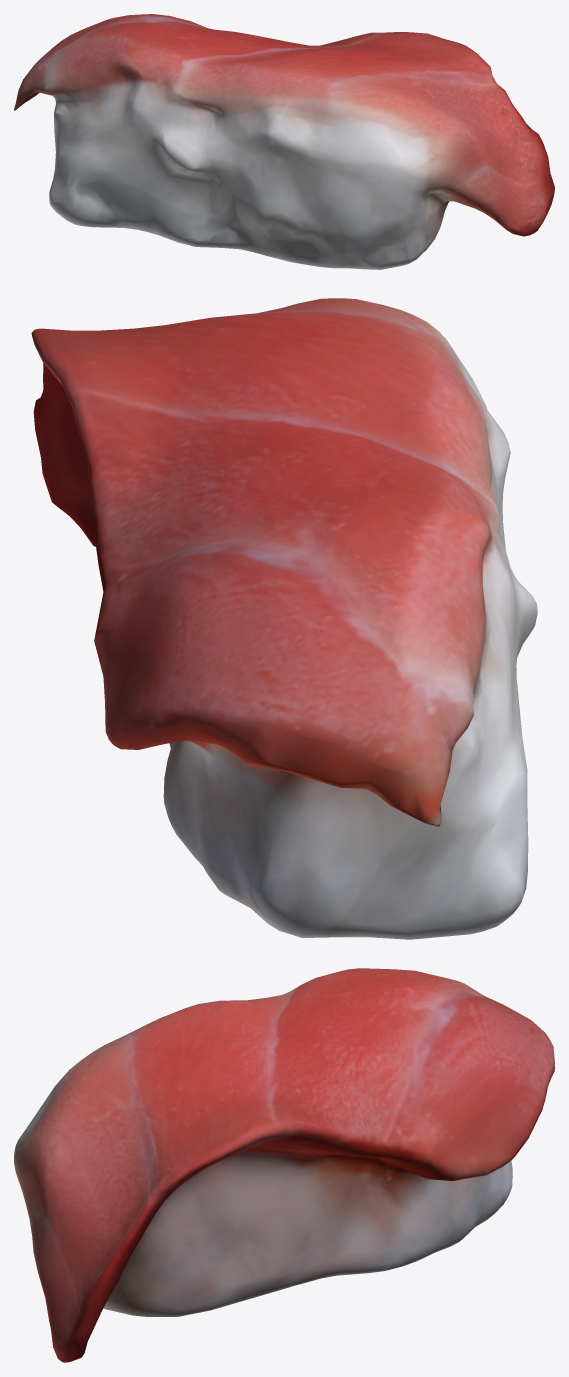
Rendered from Maguro.fbx.
3 renders of one model, top to bottom at view 1: azimuth 30°, elevation 25°; view 2: azimuth 150°, elevation 25°; view 3: azimuth 270°, elevation 25°, orthographic. The views are drawn at different scales.
Parts seen in each view (by area): view 1: maguro; view 2: maguro; view 3: maguro.
Boxes of the visible parts, left/top/right/bottom form: maguro: left=14, top=14, right=554, bottom=269; maguro: left=31, top=298, right=537, bottom=939; maguro: left=14, top=968, right=554, bottom=1362.
Bounding box in the file's own units: 5.85 × 2.85 × 5.82.
1 material, 1 textured.
